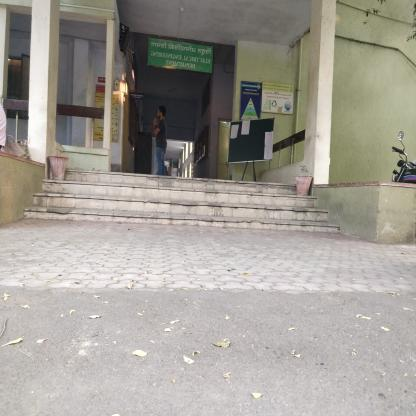stairs: (61, 183, 295, 228)
